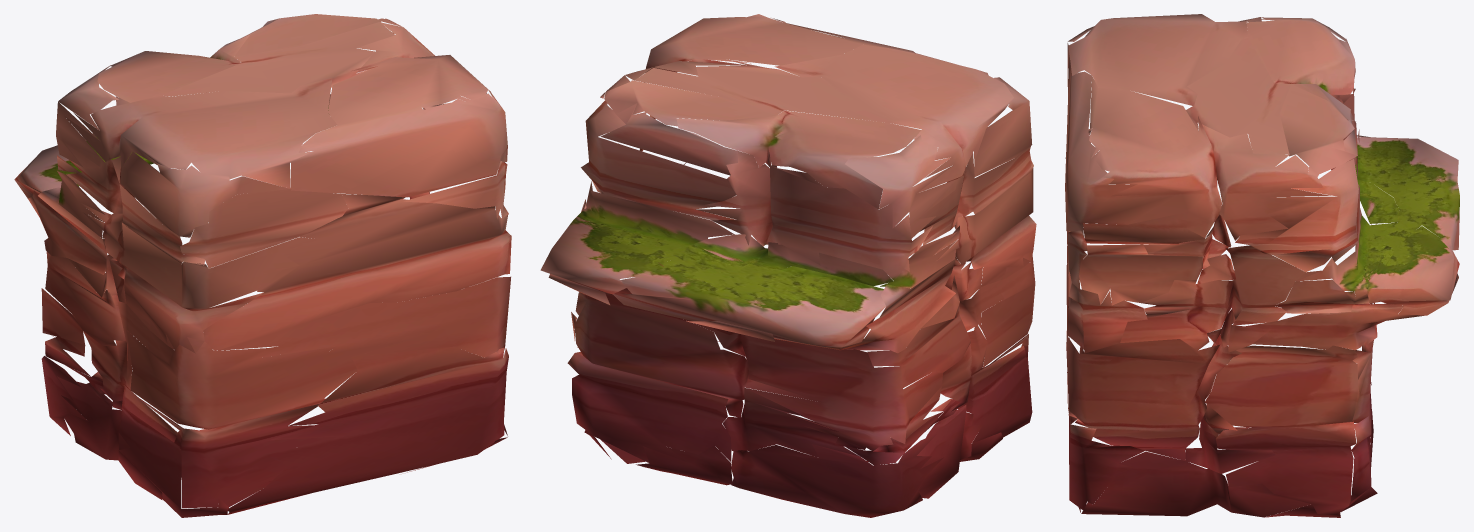
The model's file is sandstone-tall.glb.
The picture shows the model from 3 angles, left to right: view 1: azimuth 30°, elevation 25°; view 2: azimuth 150°, elevation 25°; view 3: azimuth 270°, elevation 25°; orthographic projection.
Visible parts, largest first — view 1: tripo_node_827498f3-6a1e-4358-8eea-2f37f0504b23; view 2: tripo_node_827498f3-6a1e-4358-8eea-2f37f0504b23; view 3: tripo_node_827498f3-6a1e-4358-8eea-2f37f0504b23.
Boxes of the visible parts, left/top/right/bottom form: tripo_node_827498f3-6a1e-4358-8eea-2f37f0504b23: left=14, top=14, right=511, bottom=517; tripo_node_827498f3-6a1e-4358-8eea-2f37f0504b23: left=540, top=14, right=1036, bottom=517; tripo_node_827498f3-6a1e-4358-8eea-2f37f0504b23: left=1065, top=14, right=1459, bottom=517.
Size of the model in its own units: 1 by 1.02 by 0.9981.
Materials: 1 (1 with a texture image).
